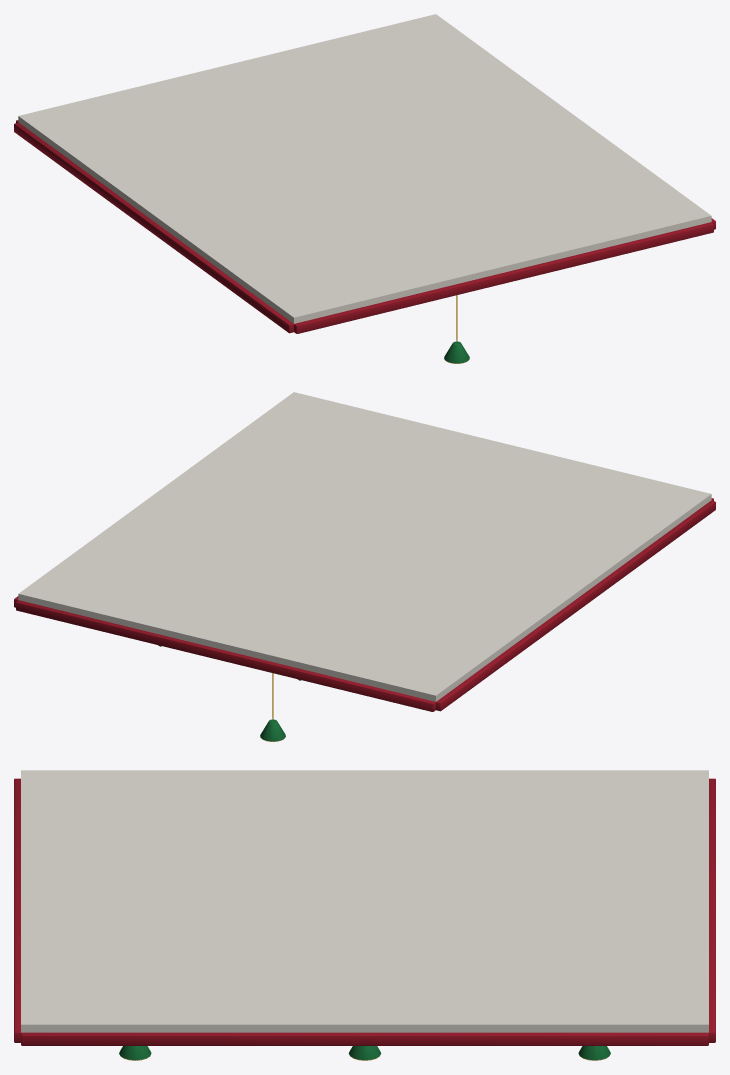
Rendered from CeilingNewYear.fbx.
3 renders of one model, top to bottom at view 1: azimuth 30°, elevation 25°; view 2: azimuth 150°, elevation 25°; view 3: azimuth 270°, elevation 25°, orthographic. The views are drawn at different scales.
Parts seen in each view (by area): view 1: CeilingNewYear; view 2: CeilingNewYear; view 3: CeilingNewYear.
Part boxes in pixels (x1,y1,x2,y2): CeilingNewYear: (14, 14, 715, 363); CeilingNewYear: (14, 392, 715, 741); CeilingNewYear: (14, 770, 715, 1060).
Size of the model in its own units: 7160 by 2020 by 8160.
